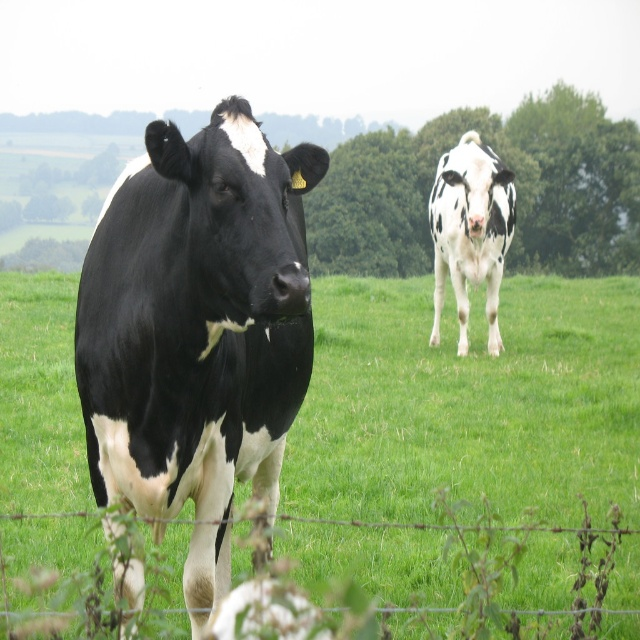Cattle: (75, 94, 330, 640), (429, 131, 516, 357)
